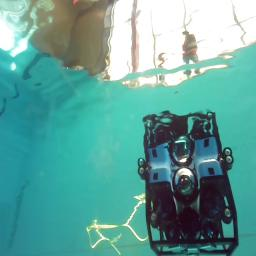front: (137, 156, 239, 255)
